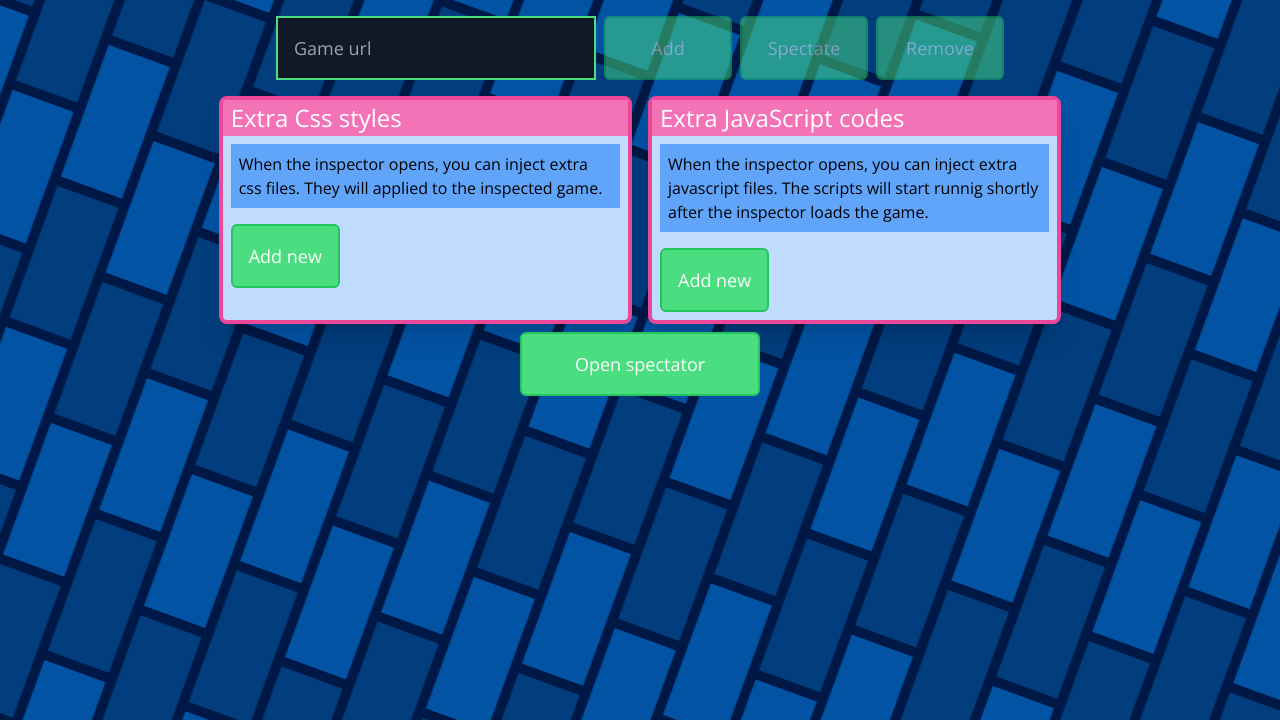
Controls test › Add url
In the field with placeholder "Game url": point(436, 48) [276,16,596,80], type "test"
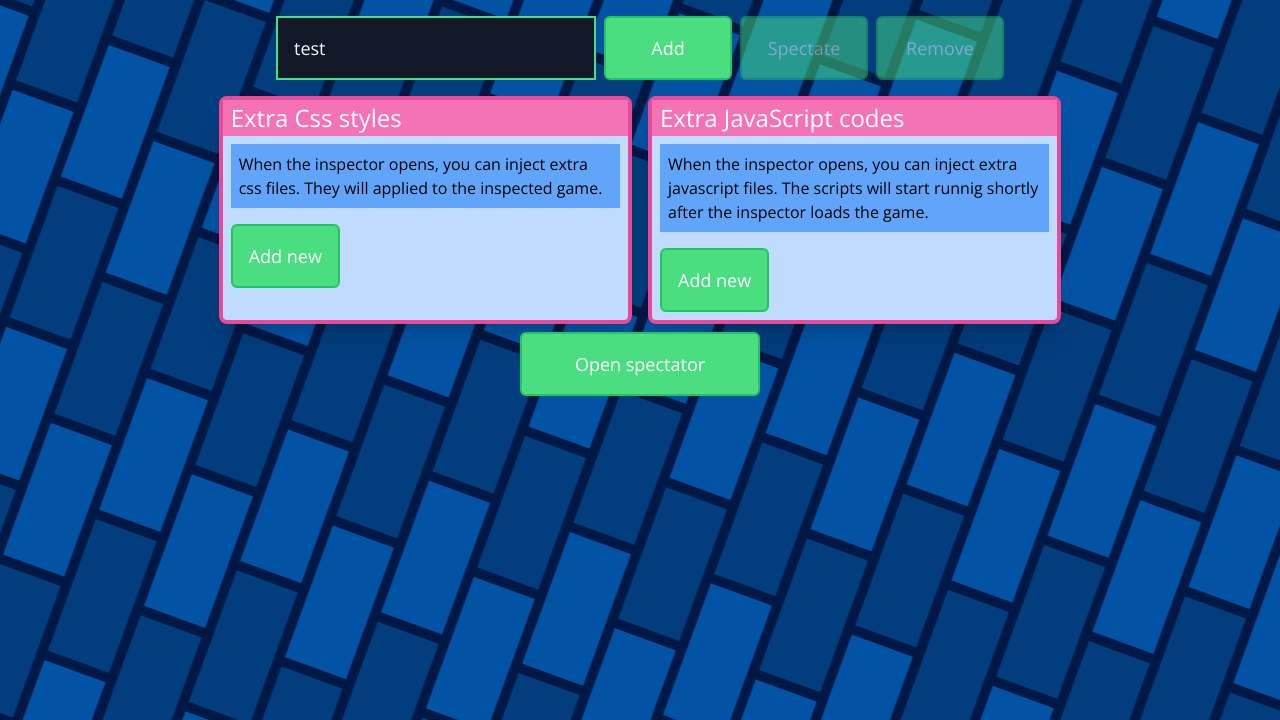
Click the button "Add": point(668, 48) [604,16,732,80]
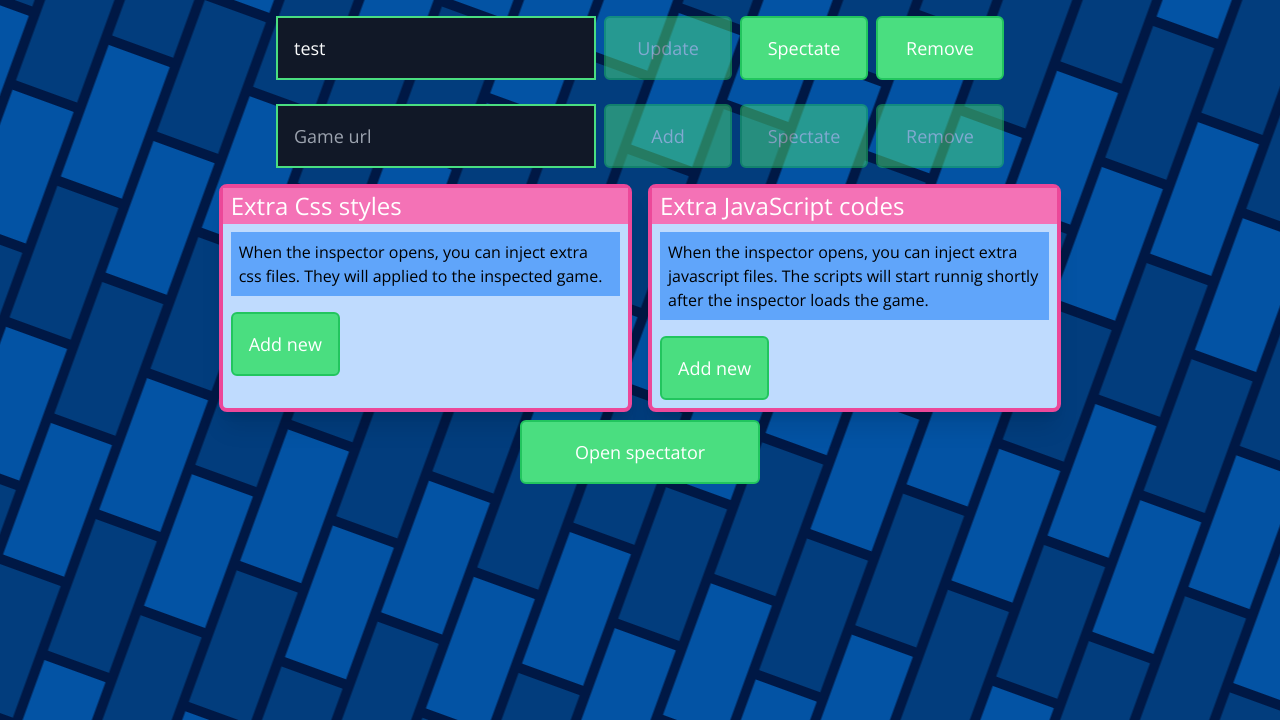
expect the button "Update" is disabled: met, box [604,16,732,80]
Replace the text in the field showing "test" with "updated": point(436, 48) [276,16,596,80]
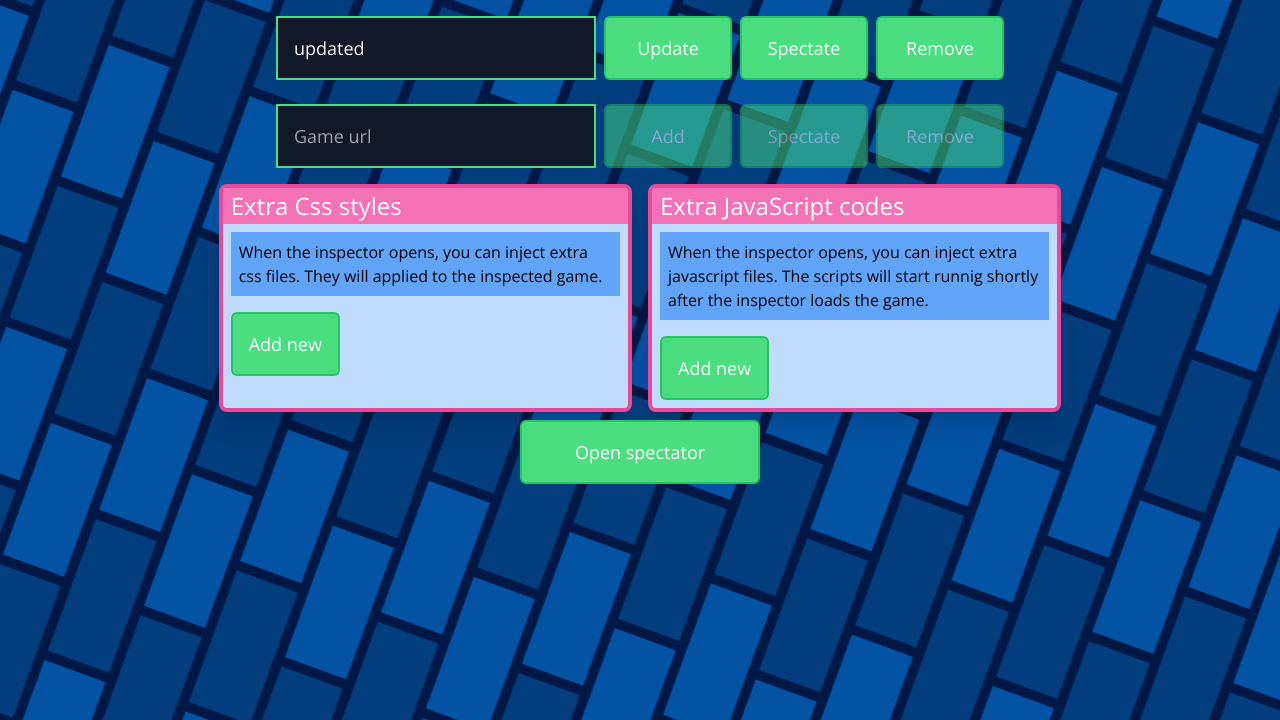
expect the button "Update" is enabled: met
Click the button "Update": point(668, 48) [604,16,732,80]
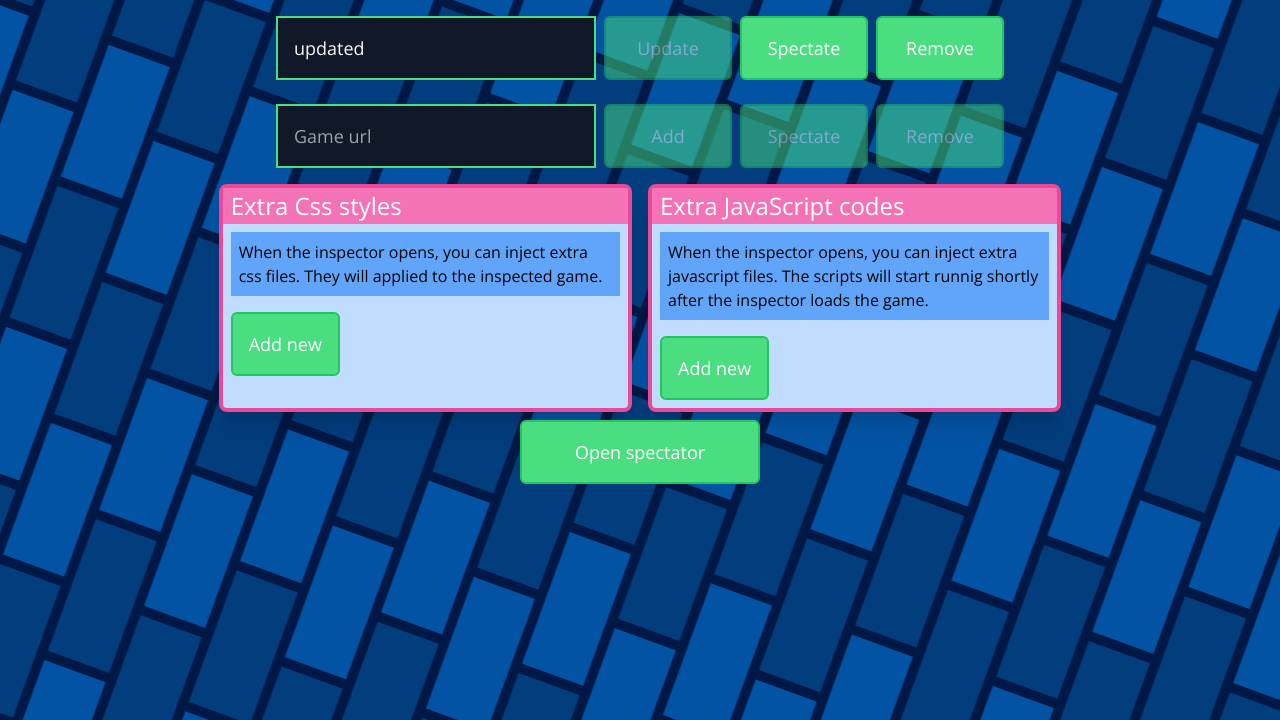
expect the button "Update" is disabled: met, box [604,16,732,80]
